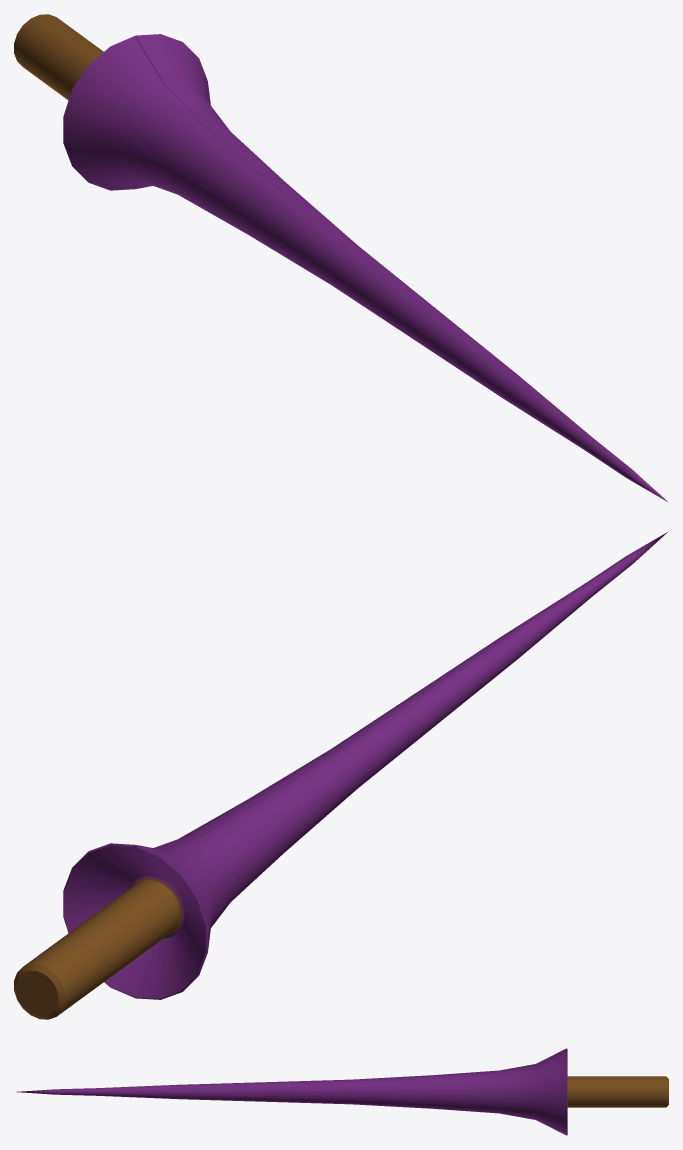
Rendered from lance.fbx.
3 views of the same model, one above another, from view 1: azimuth 30°, elevation 25°; view 2: azimuth 150°, elevation 25°; view 3: azimuth 270°, elevation 25° (orthographic). The views are drawn at different scales.
Visible parts, largest first — view 1: Cylinder001; view 2: Cylinder001; view 3: Cylinder001.
Boxes of the visible parts, box(x1,y1,x2,y2) form: Cylinder001: box(14, 14, 667, 501); Cylinder001: box(14, 532, 667, 1019); Cylinder001: box(17, 1048, 668, 1135).
Bounding box in the file's own units: 16.33 × 16.58 × 124.
1 material, 1 textured.
